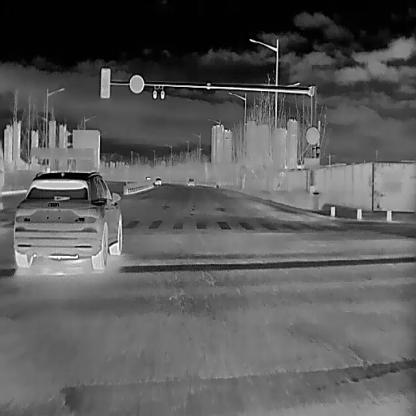car: (13, 170, 122, 269), (186, 177, 194, 186), (154, 177, 161, 185)
